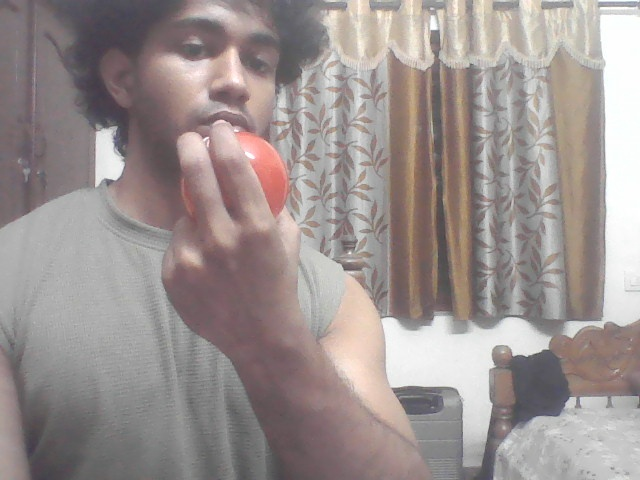cricket_ball: (180, 130, 293, 220)
